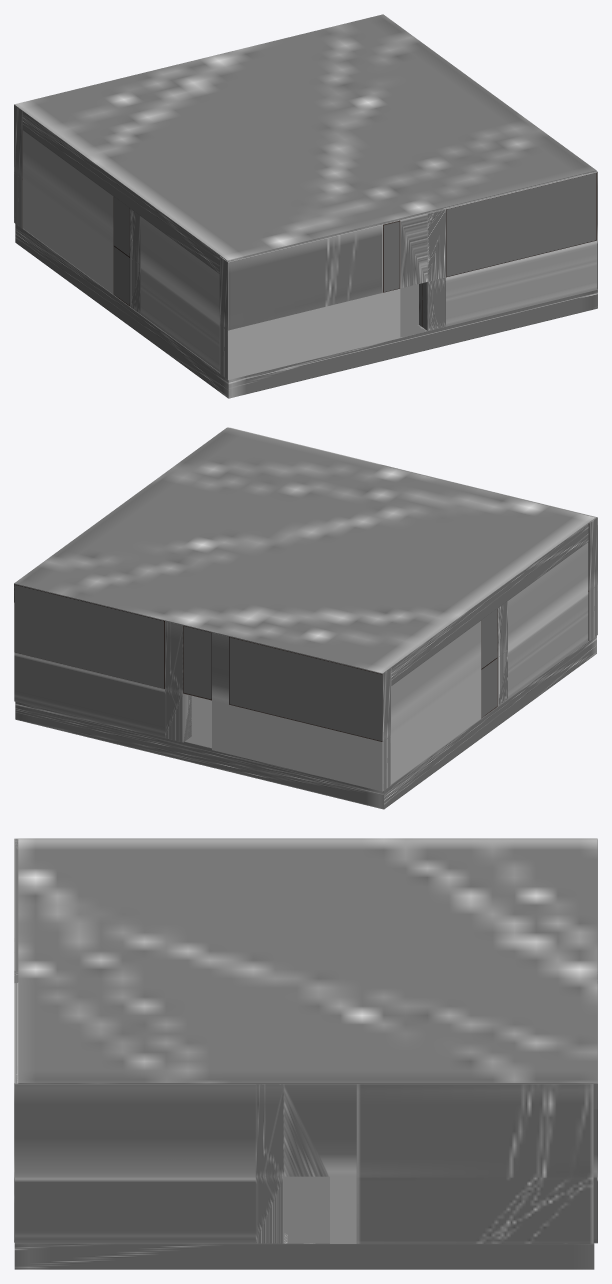
The model's file is BigArea with 3 Doors.fbx.
The picture shows the model from 3 angles, top to bottom: view 1: azimuth 30°, elevation 25°; view 2: azimuth 150°, elevation 25°; view 3: azimuth 270°, elevation 25°; orthographic projection. The views are drawn at different scales.
Visible parts, largest first — view 1: pCube9; view 2: pCube9; view 3: pCube9.
Part boxes in pixels (x1,y1,x2,y2): pCube9: [14, 14, 597, 398]; pCube9: [14, 427, 597, 809]; pCube9: [14, 838, 597, 1269].
Size of the model in its own units: 20.05 by 7.11 by 20.16.
Materials: 1 (1 with a texture image).
